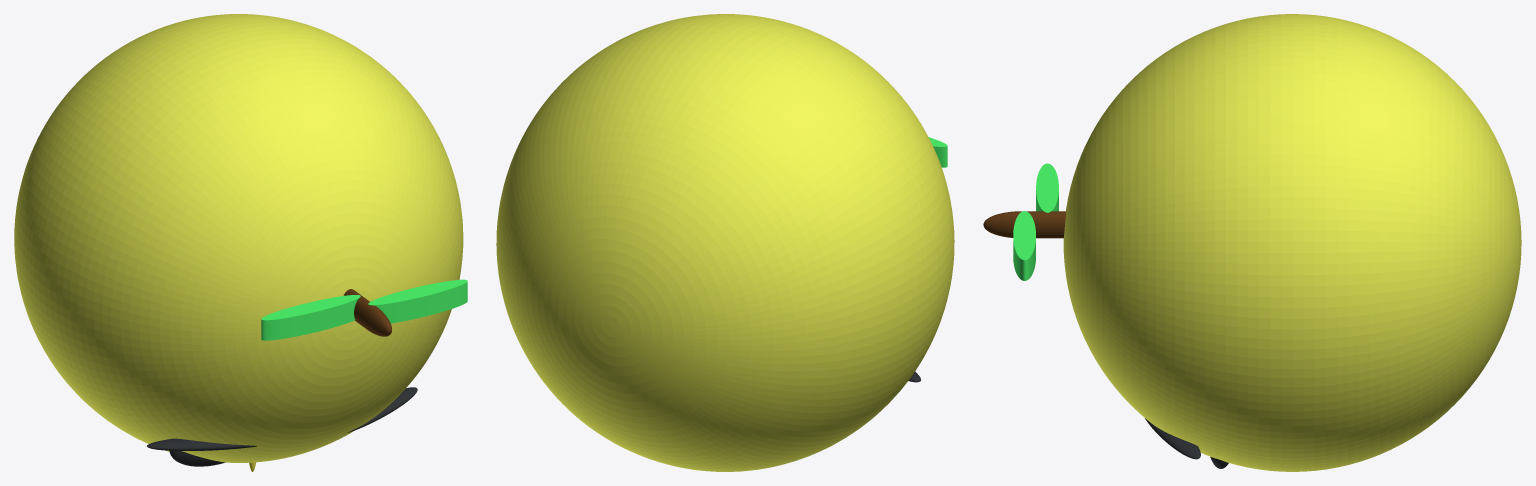
The model's file is tinker2.obj.
The picture shows the model from 3 angles, left to right: view 1: azimuth 30°, elevation 25°; view 2: azimuth 150°, elevation 25°; view 3: azimuth 270°, elevation 25°; orthographic projection. The views are drawn at different scales.
Visible parts, largest first — view 1: group_0_15594325, group_0_4651879, group_0_2829873, group_0_6306067; view 2: group_0_15594325; view 3: group_0_15594325, group_0_4651879, group_0_6306067, group_0_2829873.
Boxes of the visible parts, x1,y1,x2,y2 form: group_0_15594325: (14,14,463,462); group_0_4651879: (261,279,467,340); group_0_2829873: (147,387,417,466); group_0_6306067: (343,289,391,336); group_0_15594325: (496,14,954,471); group_0_15594325: (1063,14,1521,471); group_0_4651879: (1013,163,1058,280); group_0_6306067: (983,211,1066,238); group_0_2829873: (1145,418,1228,468).
Size of the model in its own units: 80 by 82.5 by 94.
